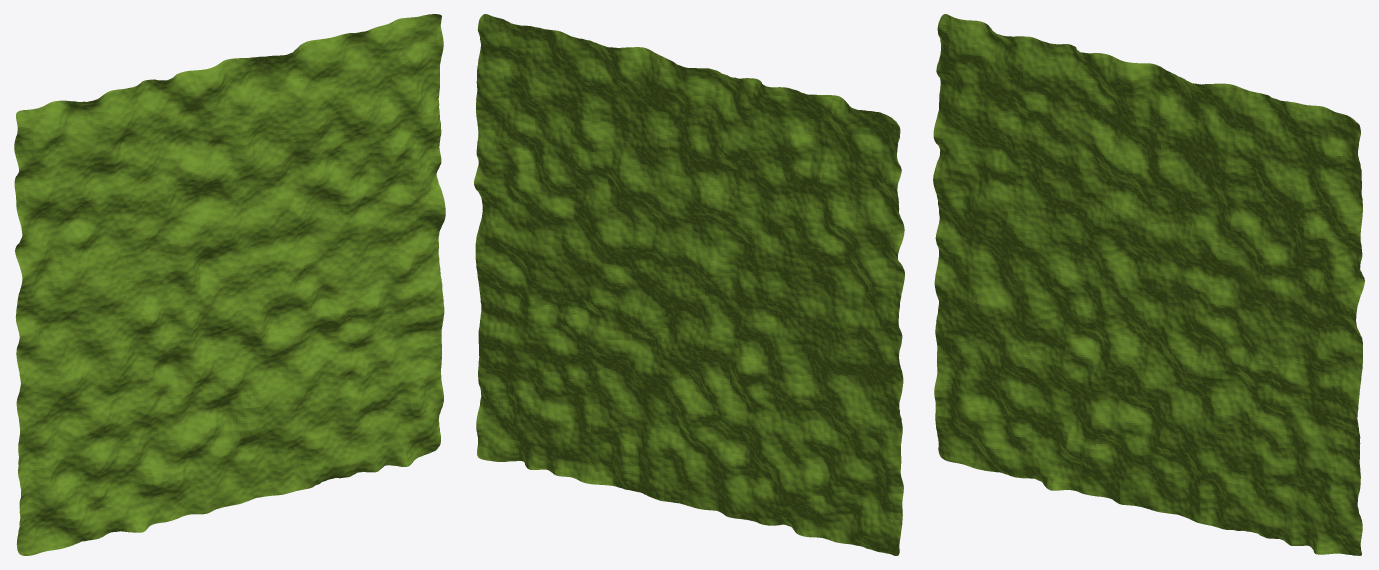
The model's file is GreenTerrain.gltf.
3 renders of one model, left to right at view 1: azimuth 30°, elevation 25°; view 2: azimuth 150°, elevation 25°; view 3: azimuth 330°, elevation 25°, orthographic.
Visible parts, largest first — view 1: Plane; view 2: Plane; view 3: Plane.
Part boxes in pixels (x1,y1,x2,y2): Plane: (14, 14, 445, 555); Plane: (474, 14, 904, 555); Plane: (933, 14, 1364, 555).
Size of the model in its own units: 1644 by 1645 by 74.77.
